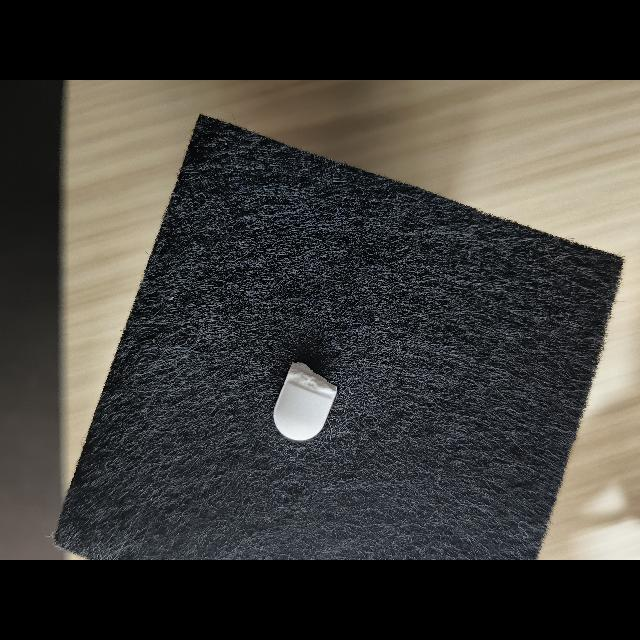Chipped Pill: (273, 362, 337, 441)
